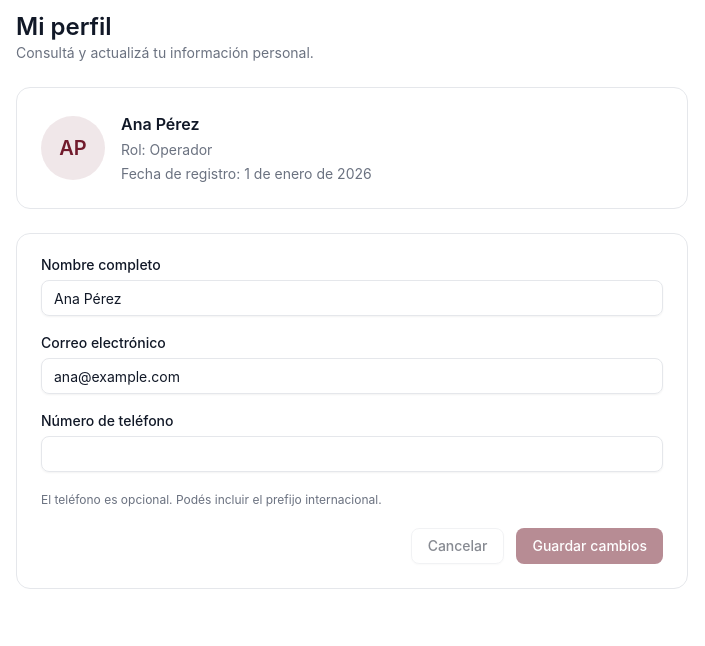
Test: Mi perfil › muestra conflictos y conserva cambios para corregirlos
Replace the text in the field labelled "Correo electrónico" with "ocupado@example.com": (352,376) [41,358,663,394]
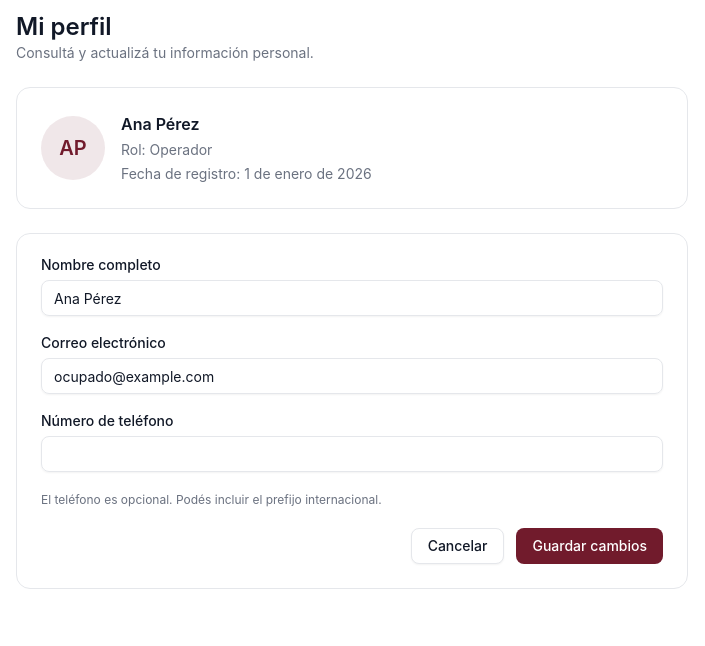
Click the button "Guardar cambios": (590,546) [516,528,663,564]
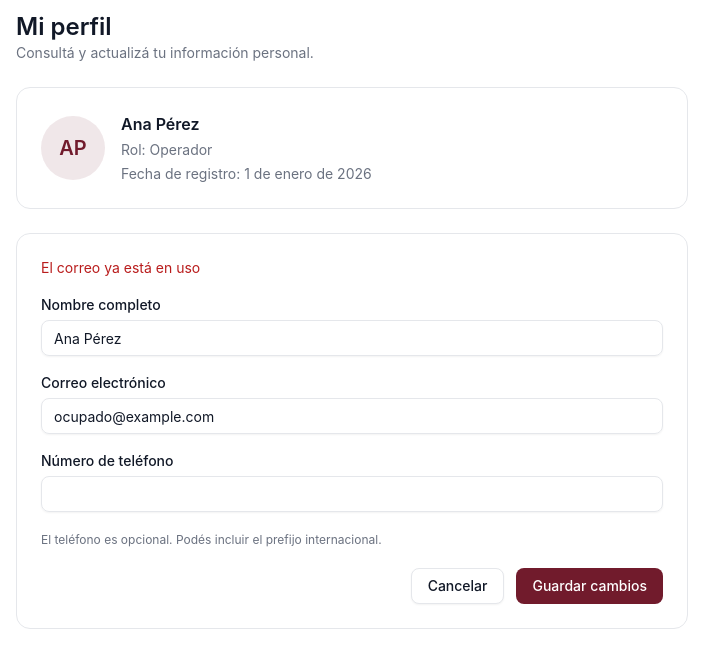
Now the button "Guardar cambios" is enabled, box [516,568,663,604]
Now the message reads "El correo ya está en uso", box [41,259,200,276]
